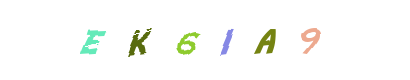6: (162, 0, 242, 80)
9: (232, 0, 312, 80)
A: (187, 0, 267, 80)
E: (51, 0, 131, 80)
I: (165, 0, 245, 80)
K: (152, 0, 232, 80)
